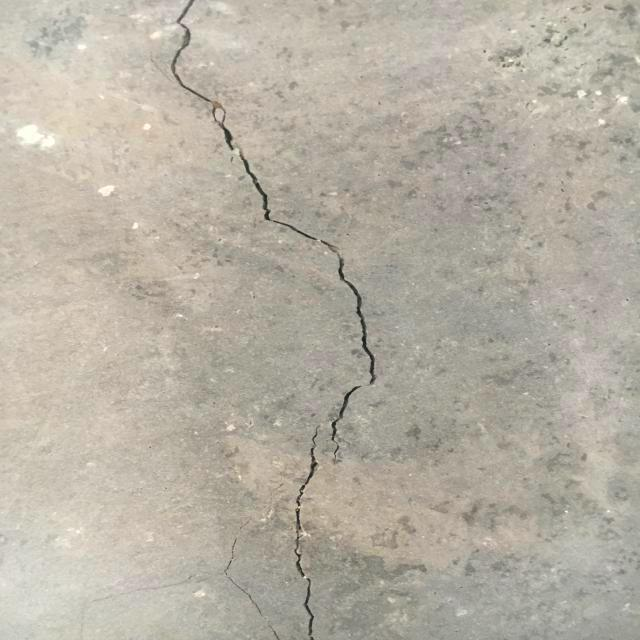SurfaceCrack: (139, 0, 400, 639)
